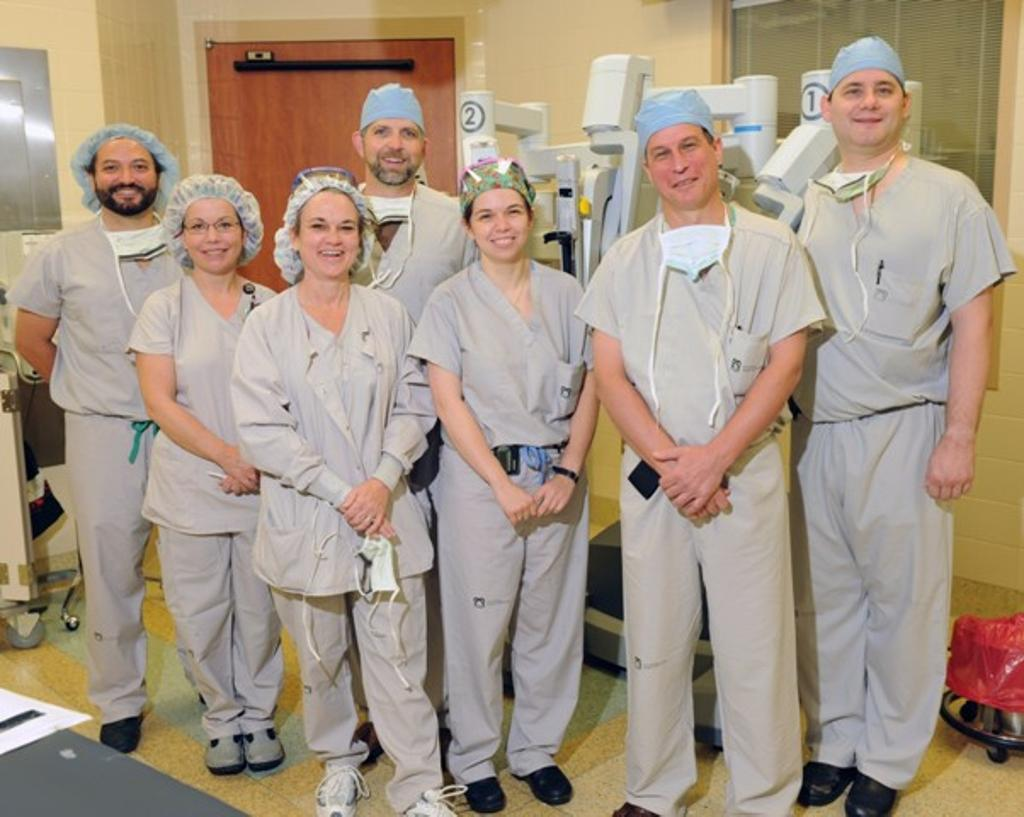face: (830, 64, 906, 138), (648, 124, 716, 200), (94, 136, 160, 212), (300, 196, 360, 278), (366, 114, 424, 186), (188, 198, 242, 274), (474, 186, 526, 258)
